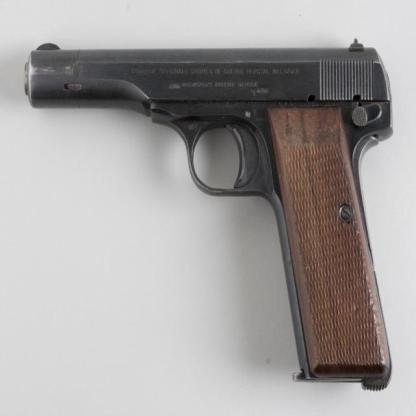weapon: (21, 36, 396, 392)
